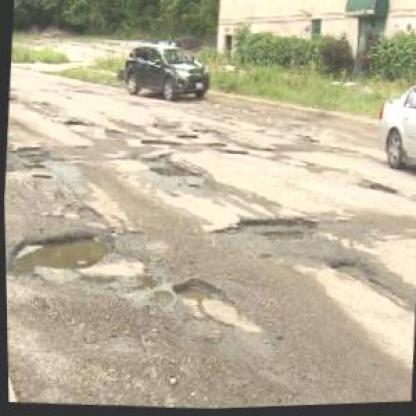pothole: (4, 223, 117, 287), (165, 273, 254, 334), (210, 208, 317, 250), (324, 258, 374, 286), (146, 160, 202, 183)
